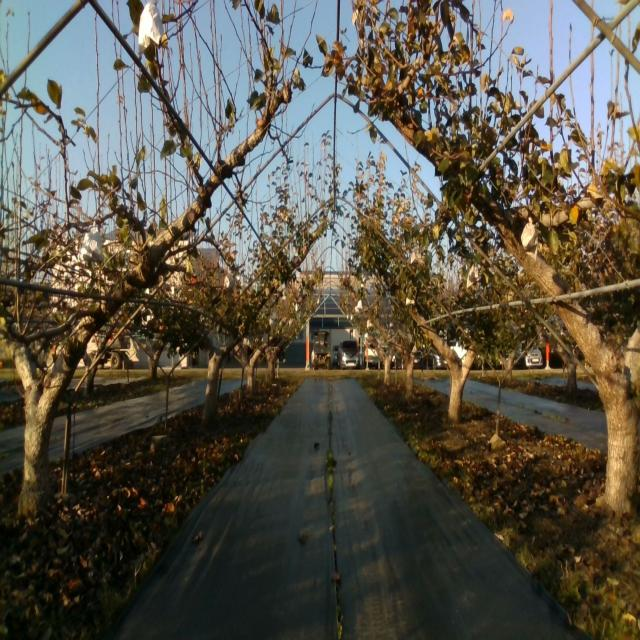pearbags: (138, 1, 164, 55), (78, 221, 104, 262), (521, 218, 538, 262), (466, 261, 481, 289), (410, 246, 424, 266), (224, 274, 235, 294)
